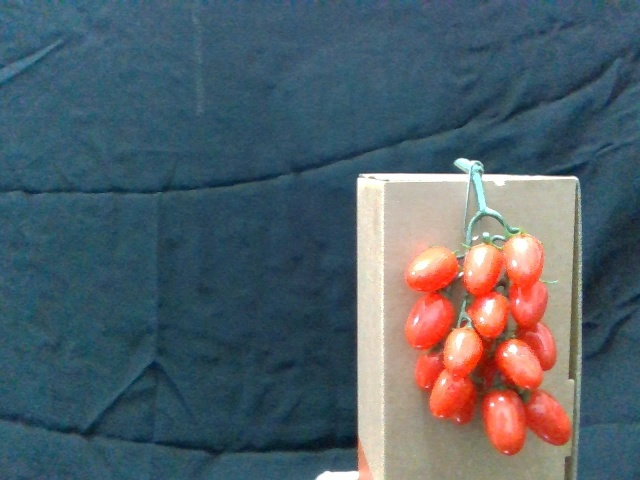tomato: (482, 388, 527, 457), (403, 293, 454, 353), (523, 389, 574, 447), (428, 371, 476, 424), (496, 339, 543, 392), (407, 246, 462, 291), (464, 244, 508, 297), (443, 326, 487, 378), (515, 322, 559, 374), (507, 280, 550, 333), (507, 231, 546, 288), (469, 289, 510, 343), (410, 347, 448, 393)
